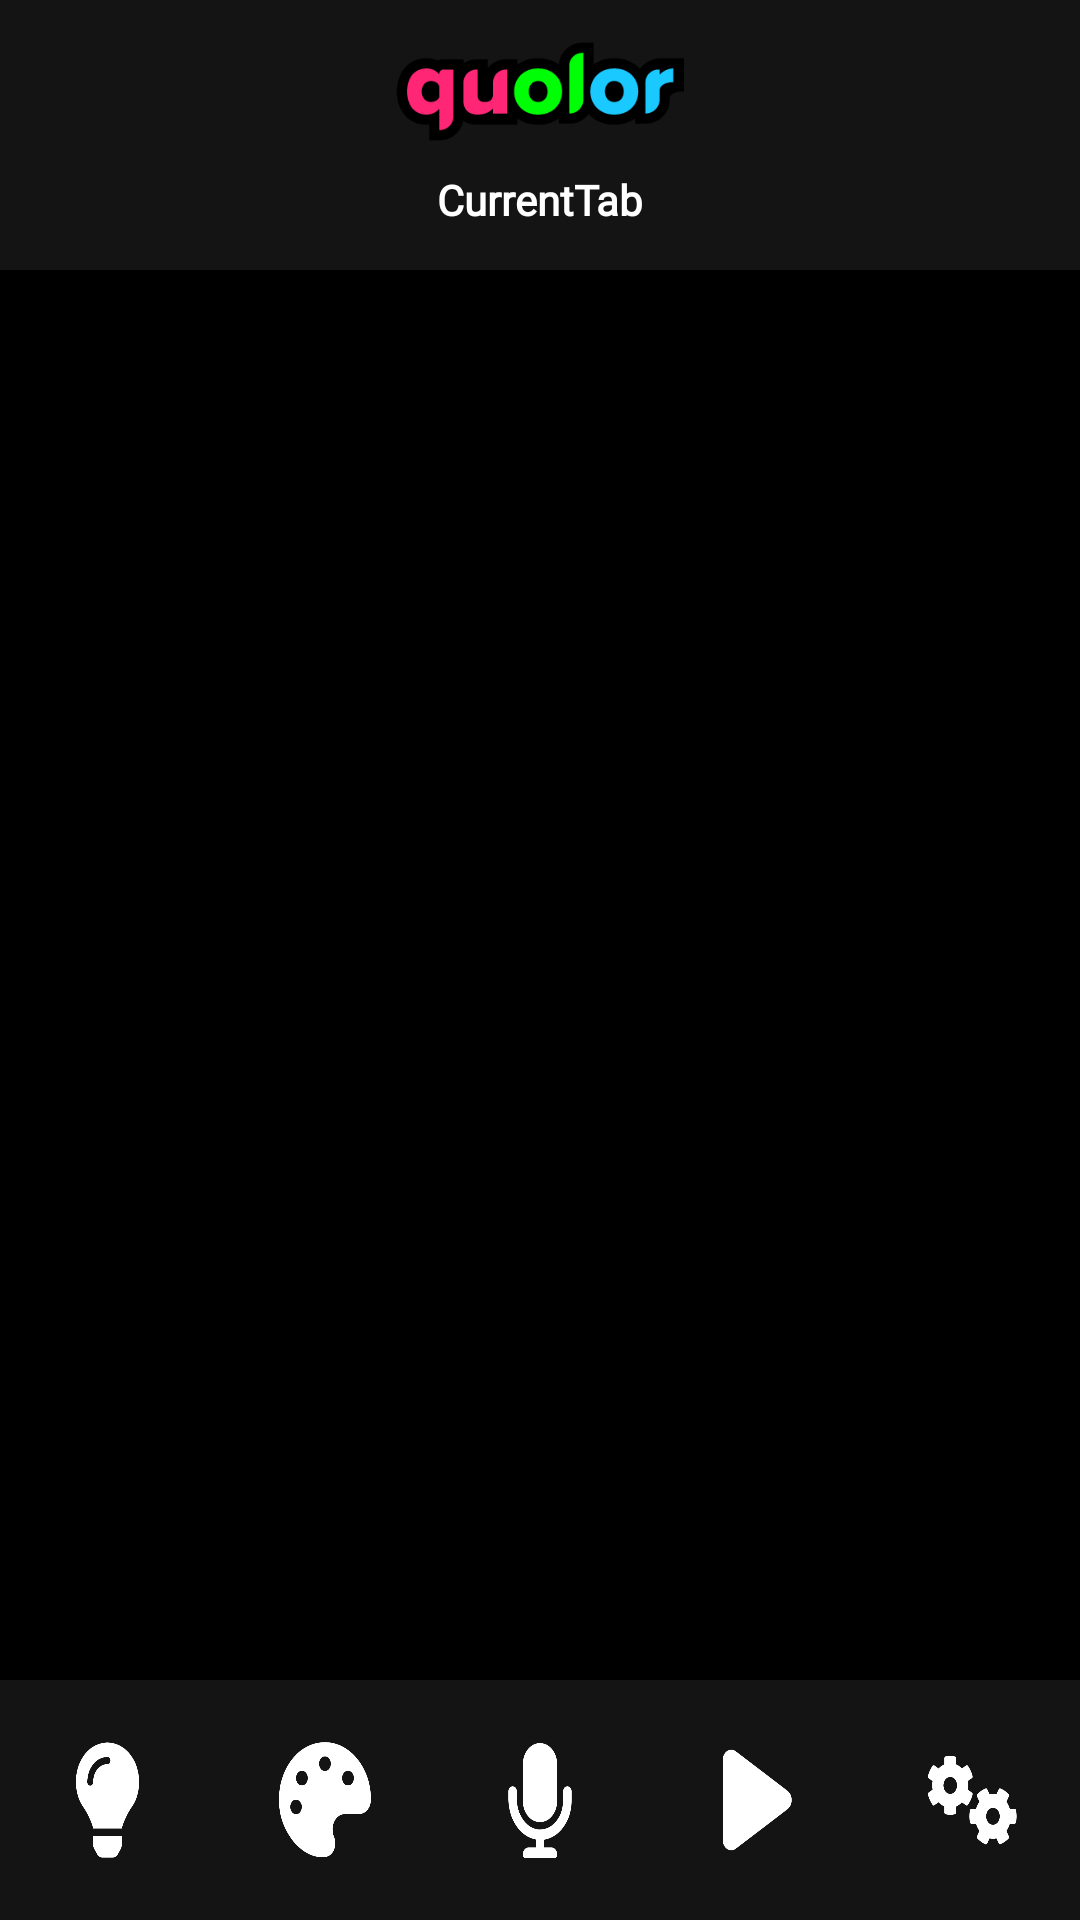

Where icons sit on this 1080 x 1920 app screen, as box=[x1, y1, x2, y2]:
gears: box=[928, 1756, 1017, 1845]
lamp: box=[76, 1742, 139, 1858]
microphone: box=[508, 1743, 572, 1858]
palette: box=[279, 1742, 371, 1857]
play: box=[723, 1749, 792, 1851]
